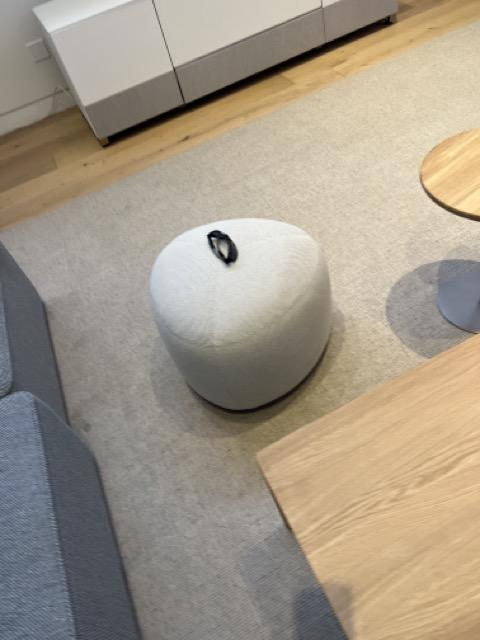Sunglasses: (206, 228, 239, 268)
